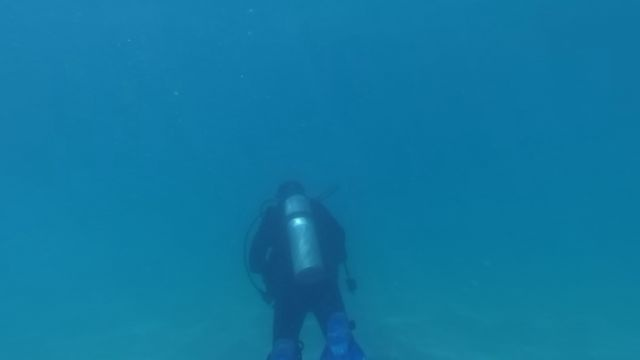Diver: (240, 173, 384, 355)
